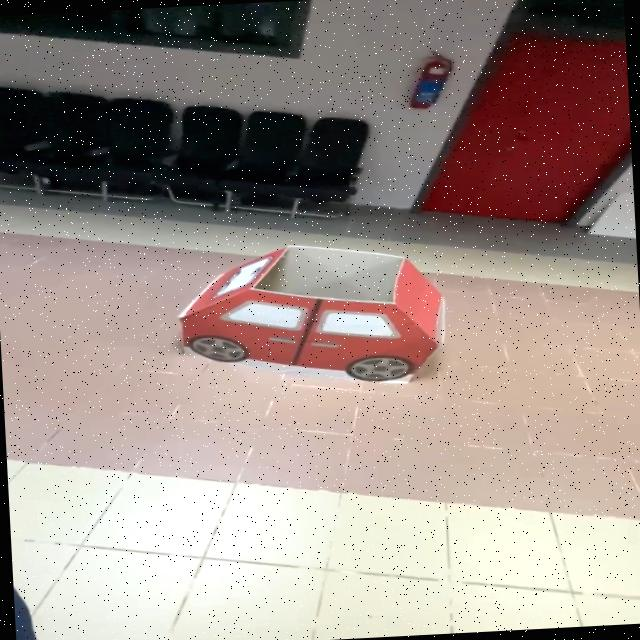red_car: (136, 230, 488, 413)
